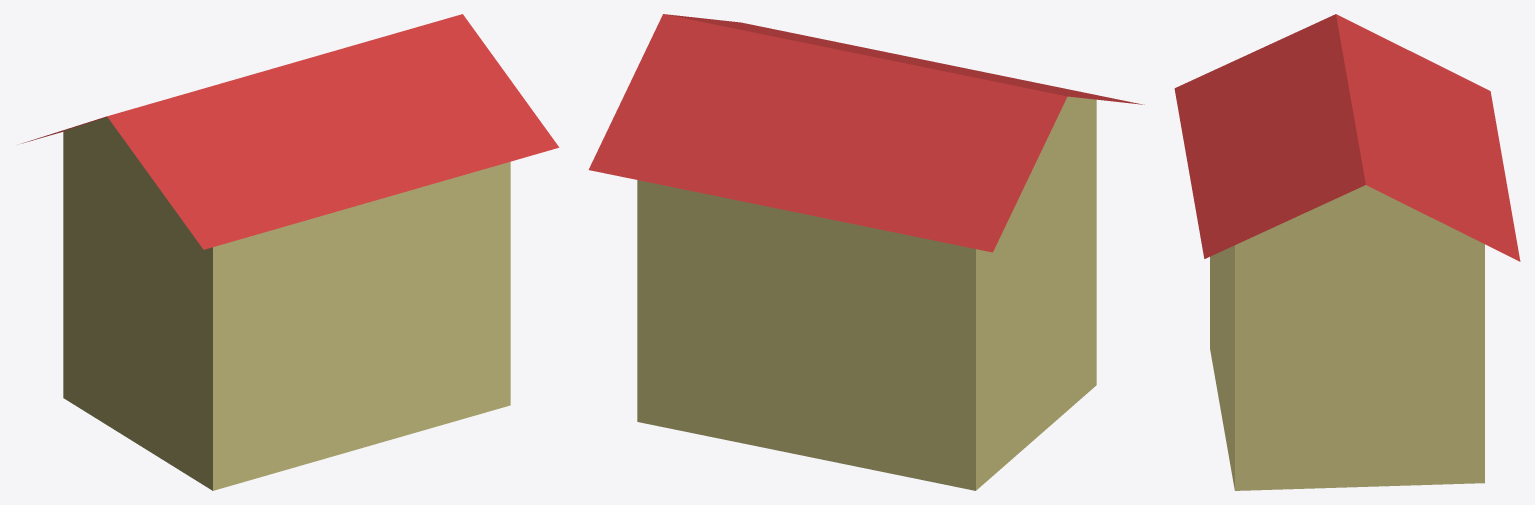
The picture shows the model from 3 angles, left to right: view 1: azimuth 30°, elevation 25°; view 2: azimuth 150°, elevation 25°; view 3: azimuth 270°, elevation 25°; orthographic projection. The views are drawn at different scales.
Bounding box in the file's own units: 9.71 × 7.86 × 7.92.
